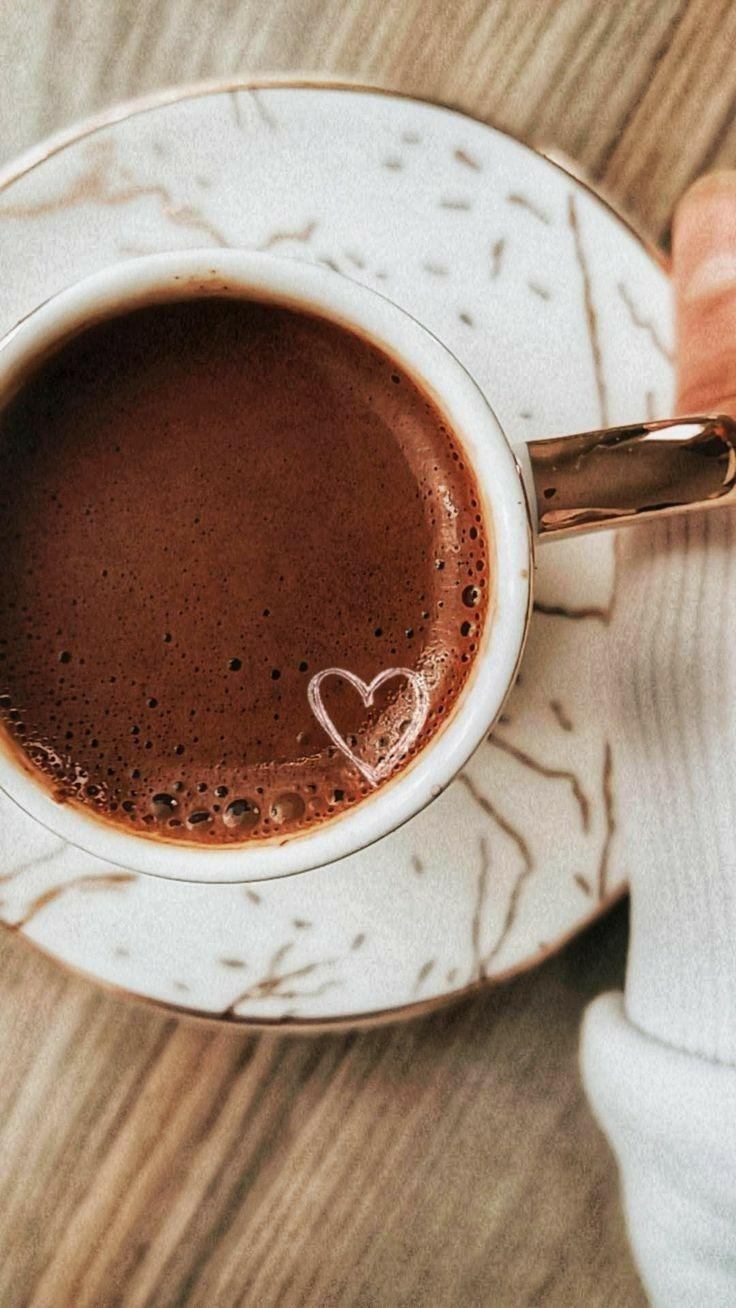cup-handle: (1, 245, 735, 887)
